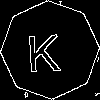K: (25, 25, 61, 72)
